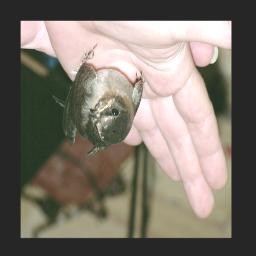Swallow: (50, 40, 146, 158)
